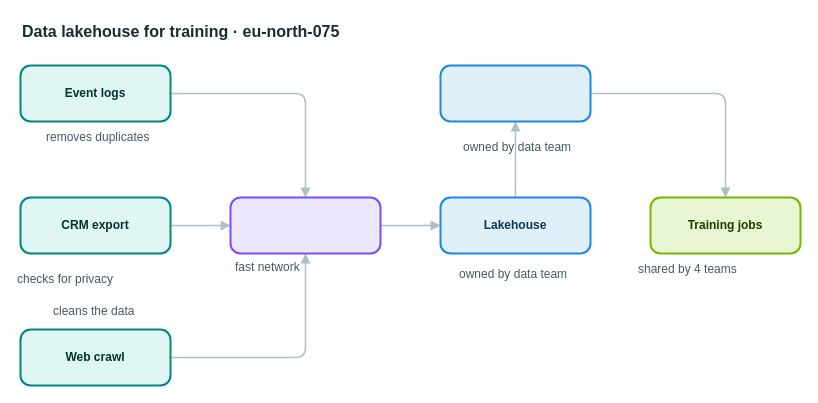
The diagram is 818 pixels wide and 403 high, and some of its shapes have lost their labels. The box of each missing label's shape, as (x1, y1, x2, y2) in pixels:
Feature store: (439, 64, 591, 122)
Stream bus: (229, 196, 381, 254)
